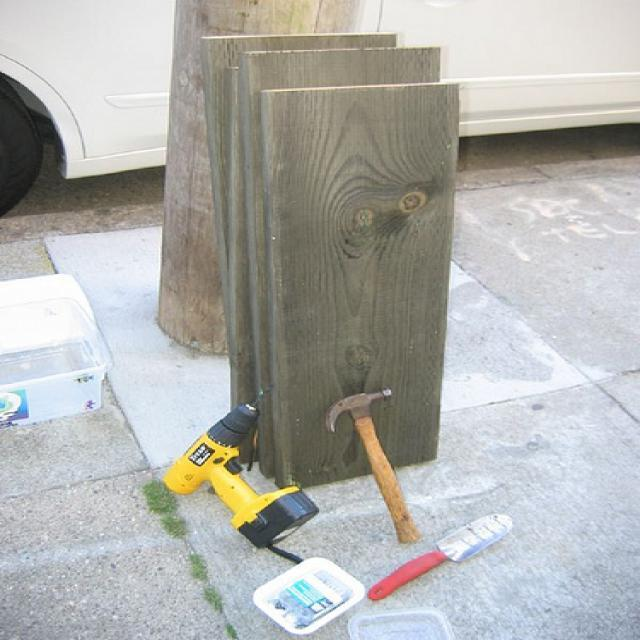hammer: (318, 386, 432, 550)
